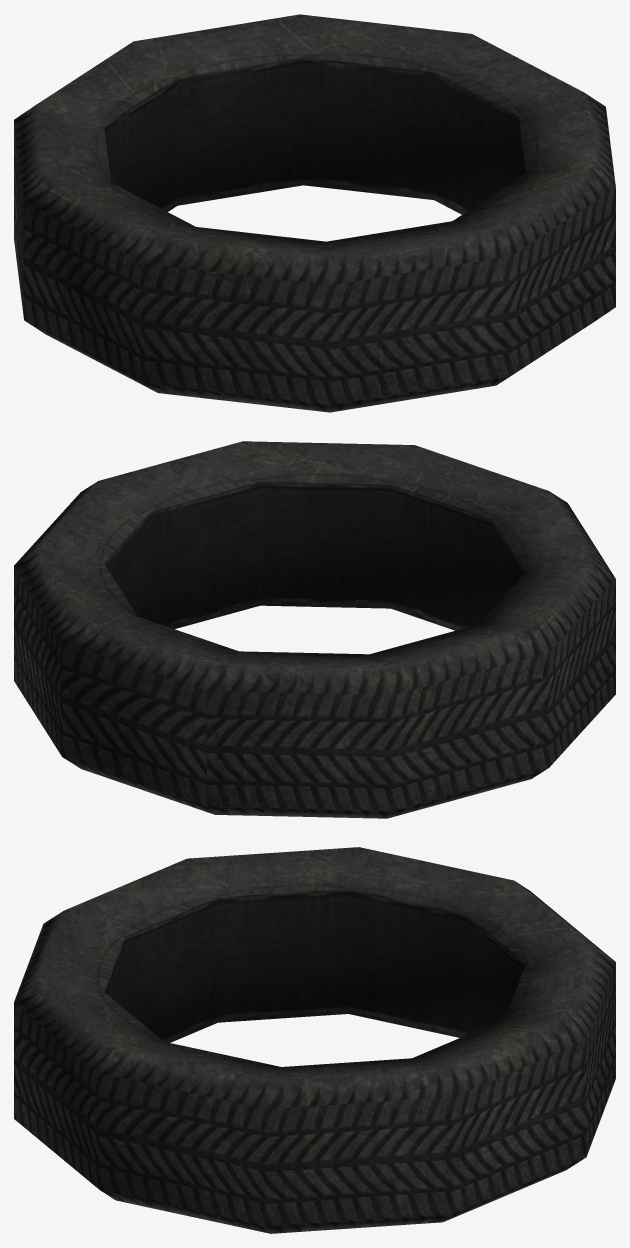
The model's file is Tire1_LOD1.fbx.
3 views of the same model, one above another, from view 1: azimuth 30°, elevation 25°; view 2: azimuth 150°, elevation 25°; view 3: azimuth 270°, elevation 25° (orthographic). The views are drawn at different scales.
Visible parts, largest first — view 1: polySurface4; view 2: polySurface4; view 3: polySurface4.
Part boxes in pixels (x1,y1,x2,y2): polySurface4: [14, 14, 615, 412]; polySurface4: [14, 441, 615, 818]; polySurface4: [14, 847, 615, 1233].
Size of the model in its own units: 1.19 by 0.3291 by 1.19.
